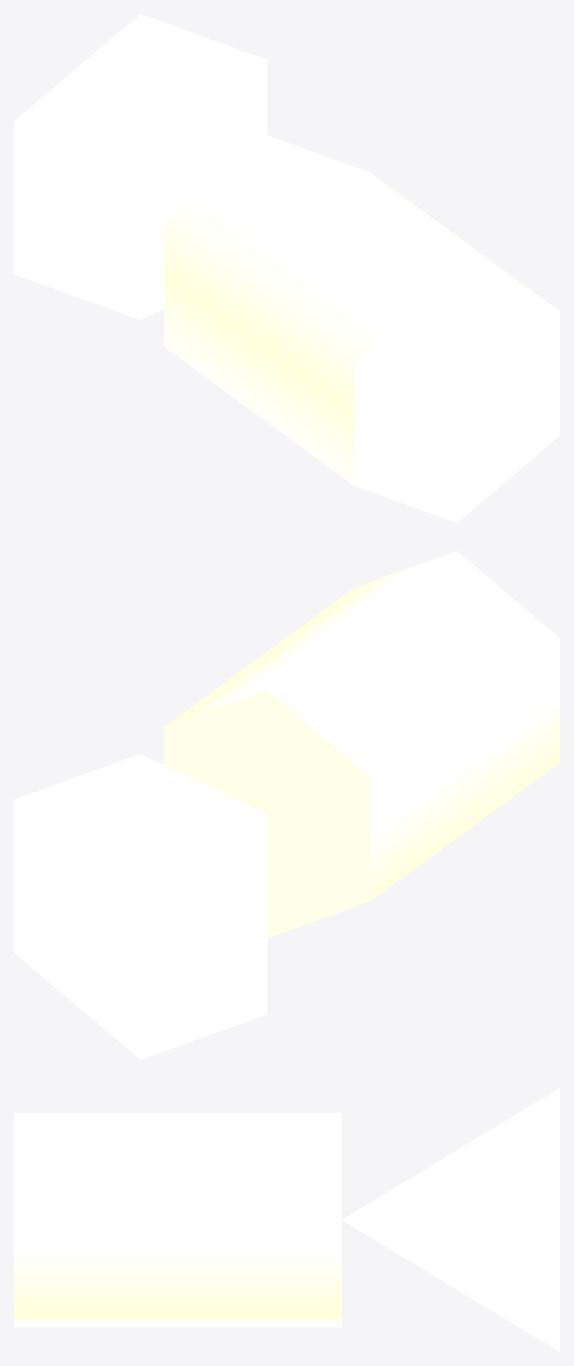
File: bullet.glb
3 renders of one model, top to bottom at view 1: azimuth 30°, elevation 25°; view 2: azimuth 150°, elevation 25°; view 3: azimuth 270°, elevation 25°, orthographic. The views are drawn at different scales.
Parts seen in each view (by area): view 1: Bullet2; view 2: Bullet2; view 3: Bullet2.
Boxes of the visible parts, x1,y1,x2,y2 form: Bullet2: (14,14,559,522); Bullet2: (14,551,559,1059); Bullet2: (14,1088,559,1351).
Size of the model in its own units: 0.1386 by 0.16 by 0.3.
